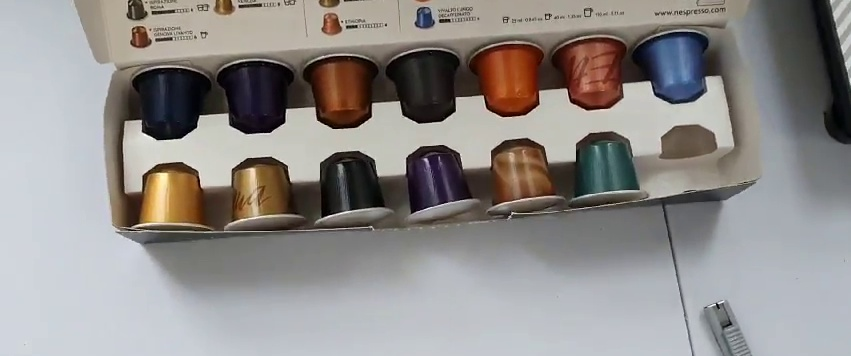capsule_1: (131, 64, 212, 139)
capsule_10: (313, 149, 394, 224)
capsule_11: (400, 147, 482, 220)
capsule_12: (483, 142, 564, 211)
capsule_13: (564, 133, 649, 204)
capsule_2: (215, 57, 298, 130)
capsule_3: (297, 52, 380, 129)
capsule_4: (385, 50, 465, 123)
capsule_5: (463, 37, 547, 113)
capsule_6: (550, 35, 629, 109)
capsule_7: (634, 30, 714, 102)
capsule_8: (126, 162, 213, 235)
capsule_9: (225, 157, 305, 229)
